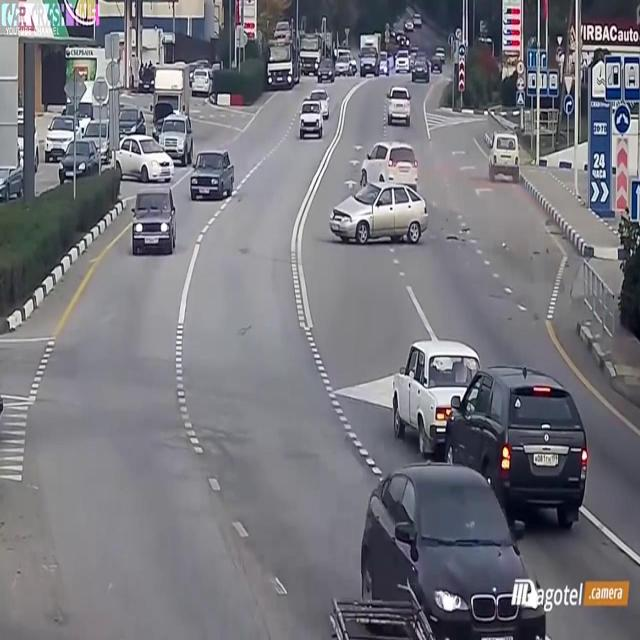accident: (325, 136, 478, 260)
non_accident: (358, 331, 593, 640), (41, 59, 237, 264)
